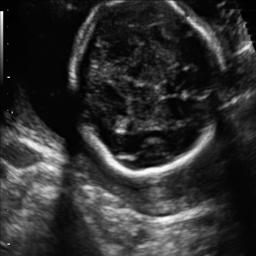normal: (72, 2, 228, 176)
